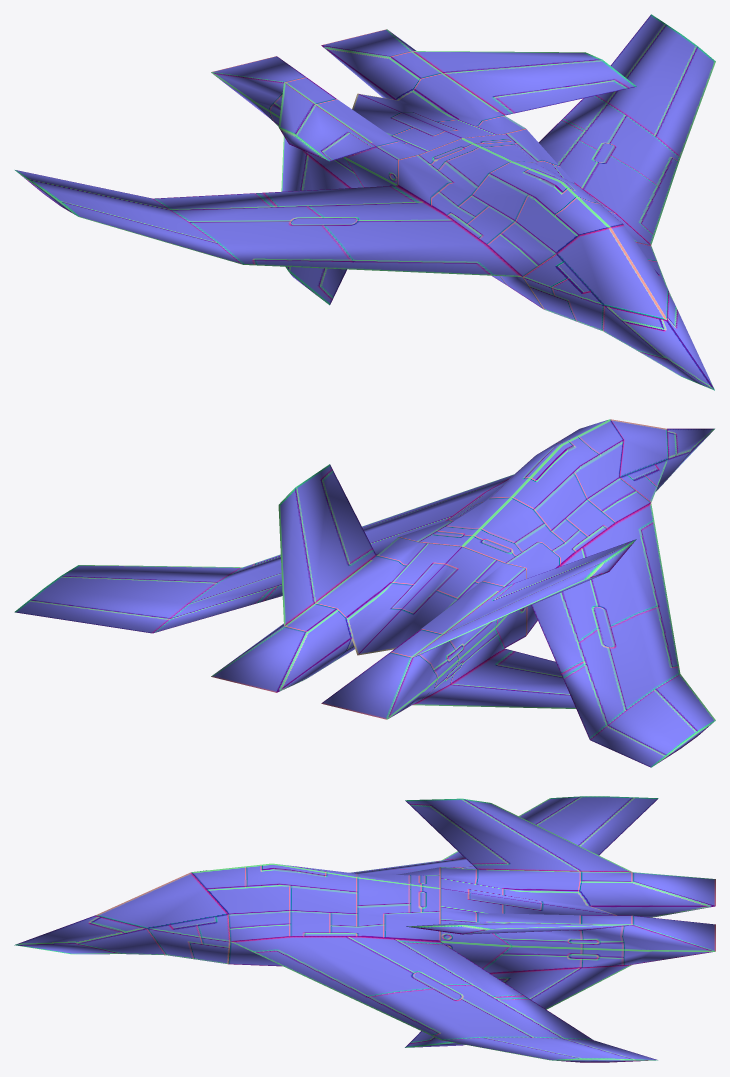
Rendered from SuperFigther.fbx.
The picture shows the model from 3 angles, top to bottom: view 1: azimuth 30°, elevation 25°; view 2: azimuth 150°, elevation 25°; view 3: azimuth 270°, elevation 25°; orthographic projection. The views are drawn at different scales.
Visible parts, largest first — view 1: Cube; view 2: Cube; view 3: Cube.
Part boxes in pixels (<box>): Cube: <box>15,14,715,390</box>; Cube: <box>14,419,715,767</box>; Cube: <box>14,796,715,1062</box>.
Size of the model in its own units: 361 by 78.91 by 409.
